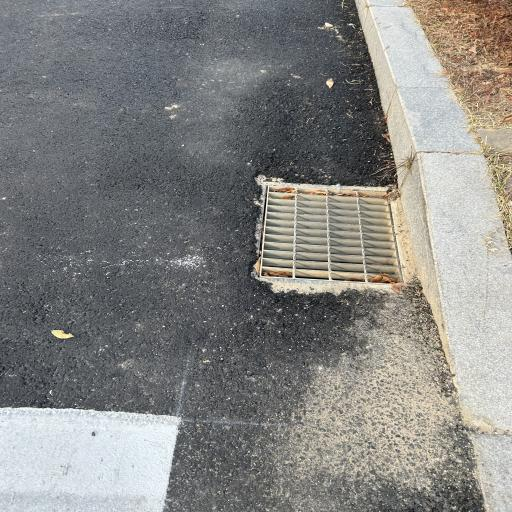debris: (371, 274, 395, 282), (264, 269, 291, 276), (274, 188, 296, 193)
drain: (259, 187, 405, 282)
